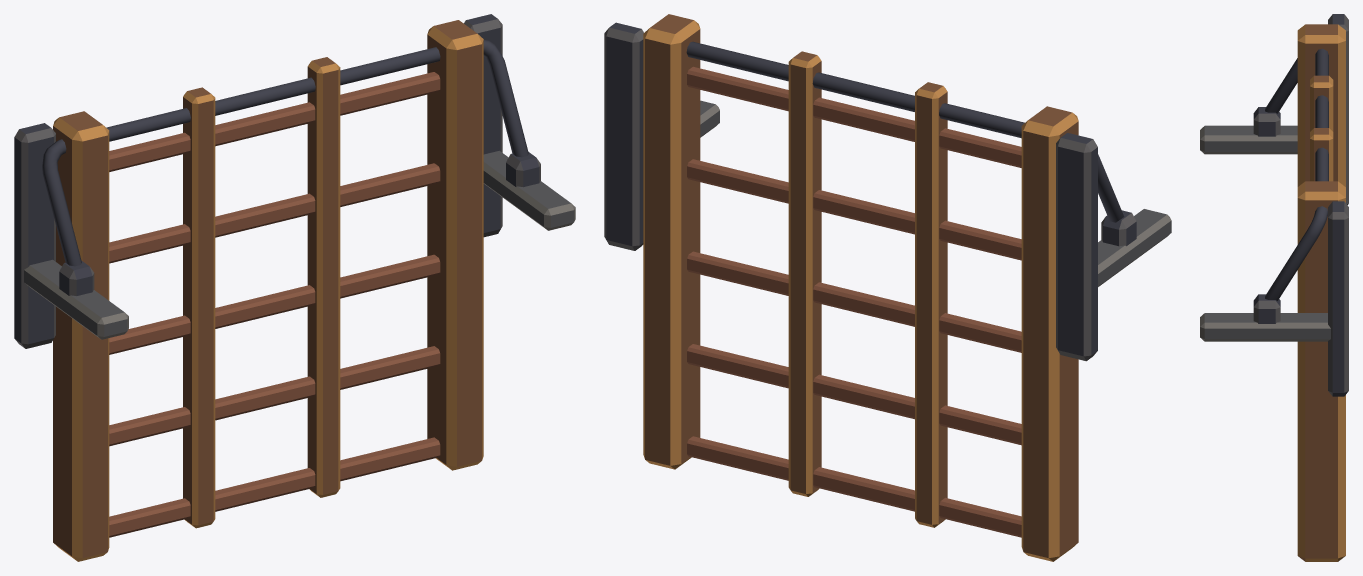
File: TrmanmaDuvar (1).fbx
3 views of the same model, side by side, from view 1: azimuth 30°, elevation 25°; view 2: azimuth 150°, elevation 25°; view 3: azimuth 270°, elevation 25° (orthographic). The views are drawn at different scales.
Visible parts, largest first — view 1: TırmanmaDuvarı; view 2: TırmanmaDuvarı; view 3: TırmanmaDuvarı.
Part boxes in pixels (box(x1,y1,x2,y2)): TırmanmaDuvarı: box(14, 14, 575, 561); TırmanmaDuvarı: box(604, 14, 1171, 561); TırmanmaDuvarı: box(1200, 14, 1348, 561).
Bounding box in the file's own units: 3.86 × 3.3 × 1.2.
